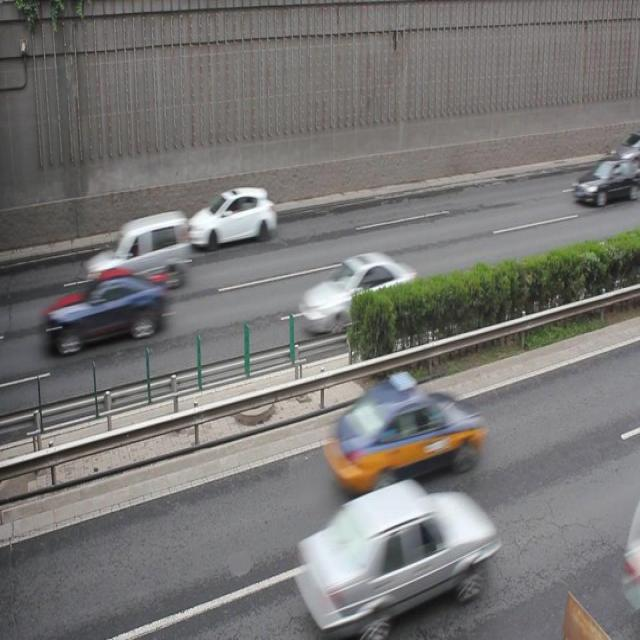car: (291, 475, 495, 640), (325, 375, 484, 488), (50, 265, 168, 351), (298, 251, 416, 334), (85, 208, 190, 292), (187, 188, 275, 247), (570, 156, 640, 206)
